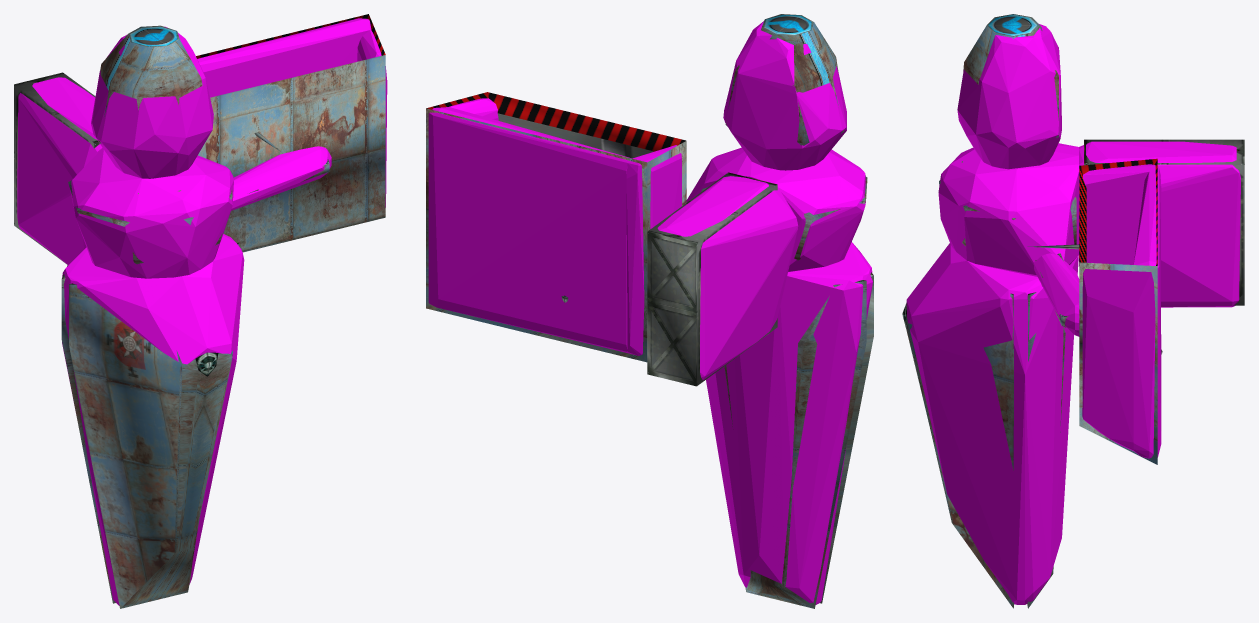
3 renders of one model, left to right at view 1: azimuth 30°, elevation 25°; view 2: azimuth 150°, elevation 25°; view 3: azimuth 270°, elevation 25°, orthographic.
Parts seen in each view (by area): view 1: ss90, COL_CoACD003, COL_CoACD002, COL_CoACD000, COL_CoACD001, COL_CoACD006, COL_CoACD005, COL_CoACD007; view 2: COL_CoACD006, COL_CoACD002, ss90, COL_CoACD000, COL_CoACD001, COL_CoACD003, COL_CoACD004, COL_CoACD007; view 3: COL_CoACD002, COL_CoACD000, COL_CoACD003, ss90, COL_CoACD001, COL_CoACD007, COL_CoACD006, COL_CoACD004, COL_CoACD005.
Boxes of the visible parts, box(x1,y1,x2,y2) form: ss90: box(14, 14, 385, 608); COL_CoACD003: box(70, 148, 233, 278); COL_CoACD002: box(62, 234, 244, 605); COL_CoACD000: box(17, 77, 102, 264); COL_CoACD001: box(91, 26, 213, 178); COL_CoACD006: box(197, 18, 371, 97); COL_CoACD005: box(231, 146, 331, 210); COL_CoACD007: box(357, 30, 387, 207); COL_CoACD006: box(428, 107, 631, 352); COL_CoACD002: box(706, 242, 872, 604); ss90: box(426, 14, 873, 608); COL_CoACD000: box(657, 176, 798, 380); COL_CoACD001: box(723, 21, 846, 170); COL_CoACD003: box(686, 147, 865, 271); COL_CoACD004: box(626, 145, 681, 355); COL_CoACD007: box(449, 98, 498, 120); COL_CoACD002: box(906, 243, 1078, 604); COL_CoACD000: box(1079, 141, 1240, 307); COL_CoACD003: box(938, 143, 1078, 276); ss90: box(902, 14, 1244, 608); COL_CoACD001: box(957, 24, 1061, 169); COL_CoACD007: box(1082, 262, 1133, 450); COL_CoACD006: box(1133, 171, 1161, 458); COL_CoACD004: box(1083, 164, 1161, 264); COL_CoACD005: box(1033, 253, 1079, 336).
Bounding box in the file's own units: 26.64 × 37.74 × 20.66.
Materials: 3 (2 with a texture image).
